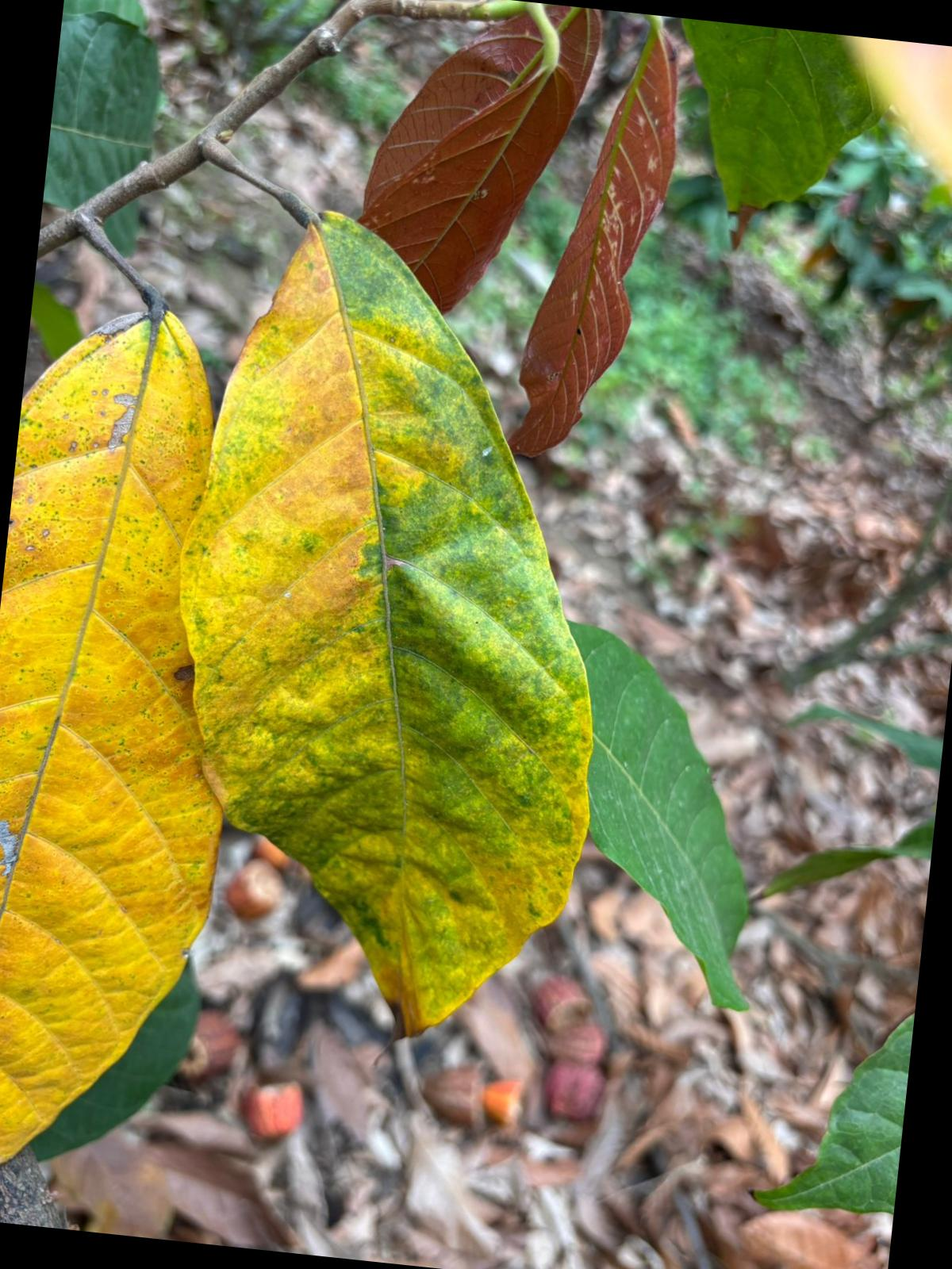Fosforo: (185, 213, 593, 1034)
